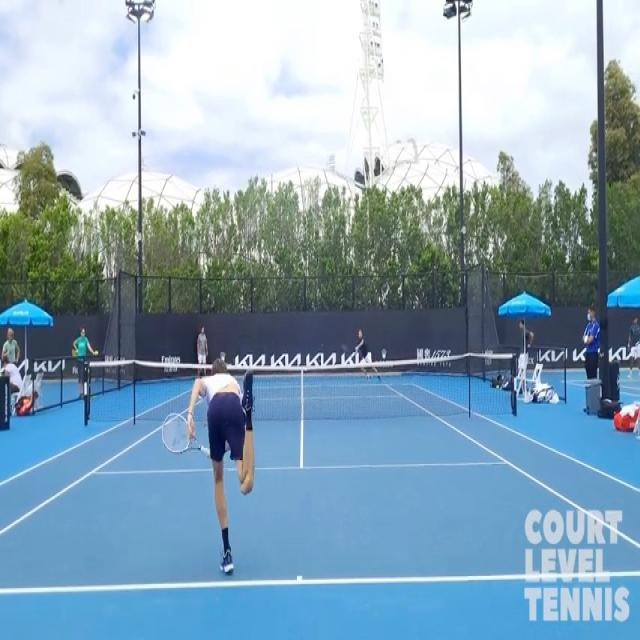serve_followthrough: (157, 338, 274, 593)
